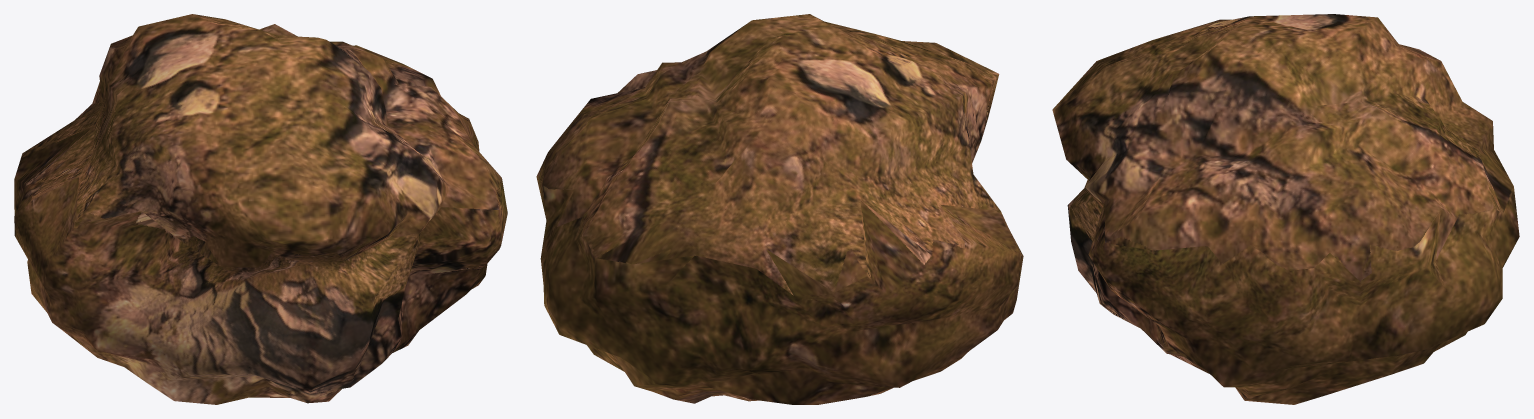
Rendered from rock1fbx.fbx.
3 renders of one model, left to right at view 1: azimuth 30°, elevation 25°; view 2: azimuth 150°, elevation 25°; view 3: azimuth 270°, elevation 25°, orthographic. The views are drawn at different scales.
Parts seen in each view (by area): view 1: Rock.001; view 2: Rock.001; view 3: Rock.001.
Part boxes in pixels (left/top/right/bottom): Rock.001: left=14, top=14, right=507, bottom=404; Rock.001: left=536, top=14, right=1023, bottom=404; Rock.001: left=1052, top=14, right=1519, bottom=404.
Size of the model in its own units: 294 by 222 by 286.
Materials: 1 (1 with a texture image).
